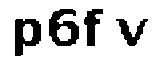6: (47, 6, 80, 49)
f: (83, 6, 105, 51)
p: (9, 13, 42, 60)
v: (115, 16, 147, 51)
